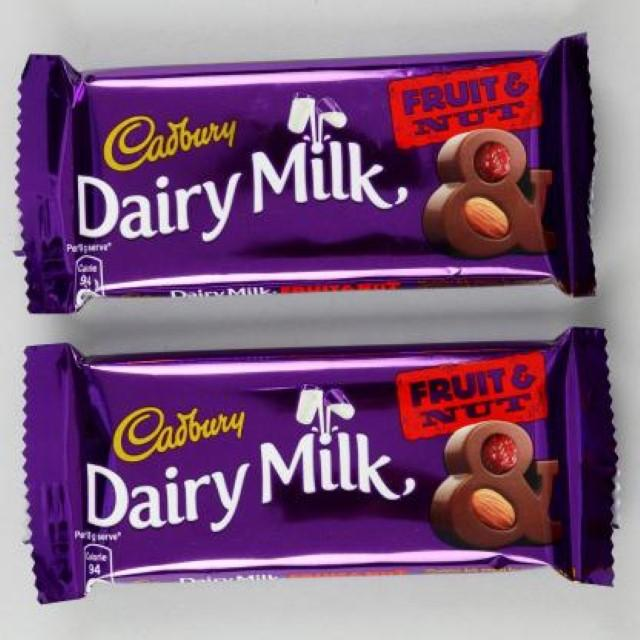cadbury_chocolate: (23, 343, 640, 588), (26, 43, 602, 295)
